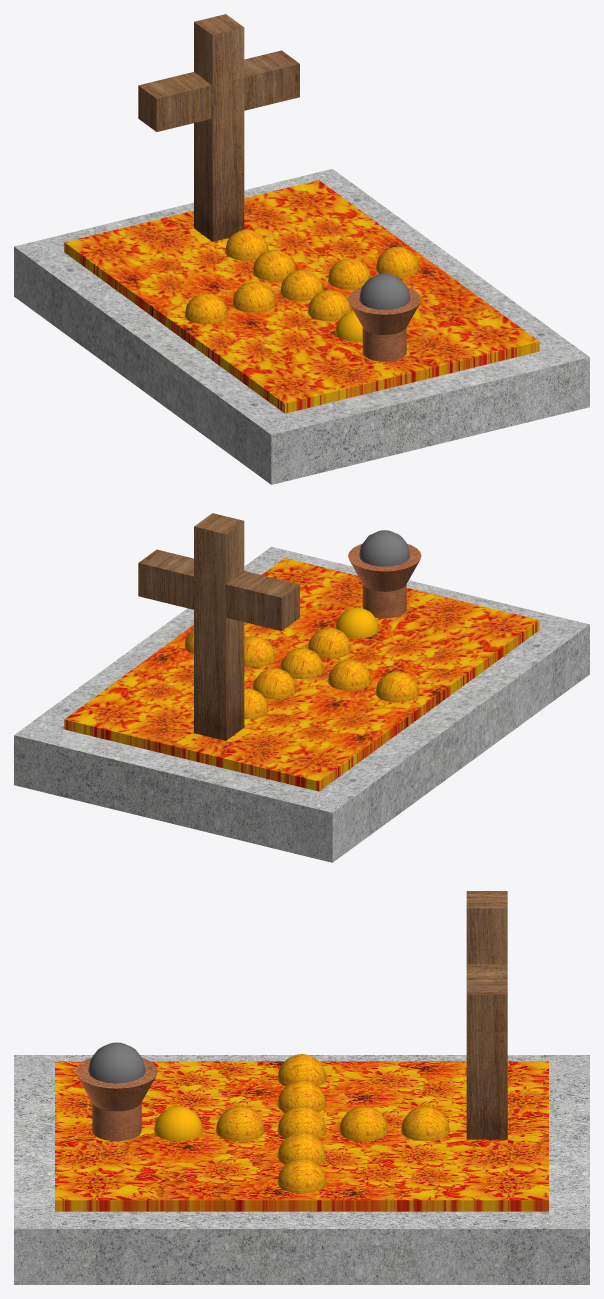
Rendered from Tumba3.obj.
3 renders of one model, top to bottom at view 1: azimuth 30°, elevation 25°; view 2: azimuth 150°, elevation 25°; view 3: azimuth 270°, elevation 25°, orthographic. The views are drawn at different scales.
Visible parts, largest first — view 1: Box005, Box001, Box003, Box006, Box002, Box007, Box004, Cone001, Sphere010, Cylinder001, Sphere006, Sphere008 (+7 smaller); view 2: Box005, Box001, Box004, Box006, Box007, Box002, Box003, Cone001, Sphere010, Cylinder001, Sphere008, Sphere006 (+6 smaller); view 3: Box005, Box002, Box003, Box004, Box006, Box001, Box007, Cone001, Sphere010, Cylinder001, Sphere002, Sphere004 (+7 smaller).
Boxes of the visible parts, left/top/right/bottom form: Box005: left=64, top=180, right=539, bottom=413; Box001: left=14, top=238, right=303, bottom=484; Box003: left=253, top=344, right=589, bottom=483; Box006: left=194, top=14, right=244, bottom=241; Box002: left=301, top=169, right=589, bottom=414; Box007: left=138, top=50, right=299, bottom=131; Box004: left=14, top=169, right=349, bottom=308; Cone001: left=348, top=287, right=421, bottom=334; Sphere010: left=359, top=273, right=410, bottom=309; Cylinder001: left=362, top=327, right=406, bottom=361; Sphere006: left=232, top=281, right=275, bottom=312; Sphere008: left=184, top=293, right=228, bottom=324; Box005: left=64, top=558, right=539, bottom=791; Box001: left=300, top=616, right=589, bottom=862; Box004: left=14, top=727, right=350, bottom=862; Box006: left=194, top=513, right=244, bottom=740; Box007: left=138, top=549, right=299, bottom=631; Box002: left=14, top=547, right=302, bottom=792; Box003: left=254, top=547, right=589, bottom=687; Cone001: left=348, top=543, right=421, bottom=591; Sphere010: left=359, top=530, right=409, bottom=566; Cylinder001: left=362, top=584, right=406, bottom=618; Sphere008: left=375, top=671, right=419, bottom=702; Sphere006: left=328, top=659, right=371, bottom=690; Box005: left=55, top=1061, right=548, bottom=1211; Box002: left=14, top=1211, right=589, bottom=1284; Box003: left=14, top=1055, right=54, bottom=1284; Box004: left=549, top=1055, right=589, bottom=1284; Box006: left=466, top=891, right=507, bottom=1139; Box001: left=14, top=1055, right=589, bottom=1072; Box007: left=466, top=964, right=507, bottom=1031; Cone001: left=75, top=1057, right=157, bottom=1111; Sphere010: left=88, top=1042, right=145, bottom=1083; Cylinder001: left=92, top=1102, right=141, bottom=1141; Sphere002: left=339, top=1106, right=388, bottom=1141; Sphere004: left=215, top=1106, right=264, bottom=1141.
Size of the model in its own units: 18.67 by 14.93 by 26.13.
7 materials, 5 textured.
